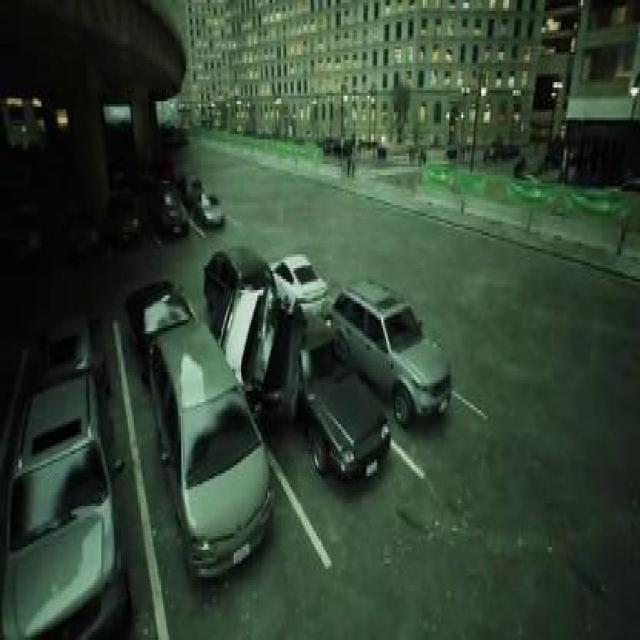accident: (203, 279, 394, 495)
